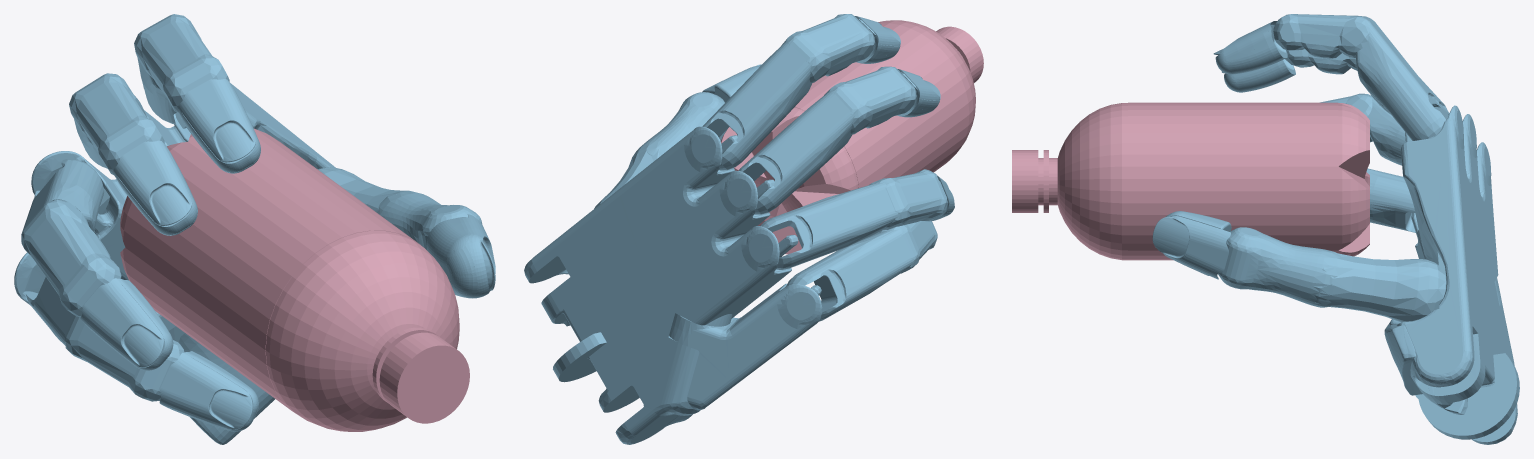
The picture shows the model from 3 angles, left to right: view 1: azimuth 30°, elevation 25°; view 2: azimuth 150°, elevation 25°; view 3: azimuth 270°, elevation 25°; orthographic projection. The views are drawn at different scales.
Parts seen in each view (by area): view 1: water_bottle.stl, world; view 2: world, water_bottle.stl; view 3: world, water_bottle.stl.
Part boxes in pixels (x1=…): water_bottle.stl: x1=120, y1=128, x2=469, y2=431; world: x1=14, y1=14, x2=495, y2=444; world: x1=524, y1=14, x2=954, y2=444; water_bottle.stl: x1=720, y1=20, x2=983, y2=254; world: x1=1152, y1=14, x2=1519, y2=444; water_bottle.stl: x1=1012, y1=102, x2=1369, y2=260.
Bounding box in the file's own units: 0.1477 × 0.1595 × 0.1937.
